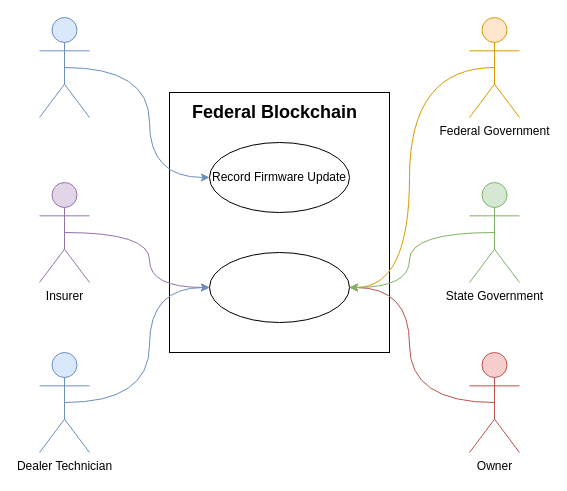
Image size: 567x491. Some labels were removed from this diagram. The shapes that lost their labels are listed below. From the top down, each one's centre as x and y in pixels, then its label:
At point 64,67: "OEM Dev Team".
At point 279,287: "Check To See If Update Available".
